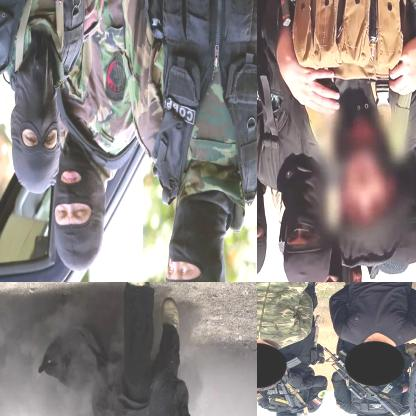rifle: (320, 346, 408, 415)
